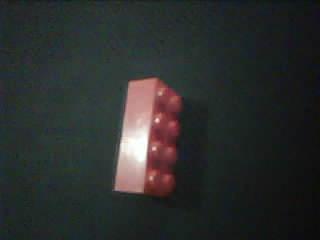lego: (111, 77, 182, 198)
